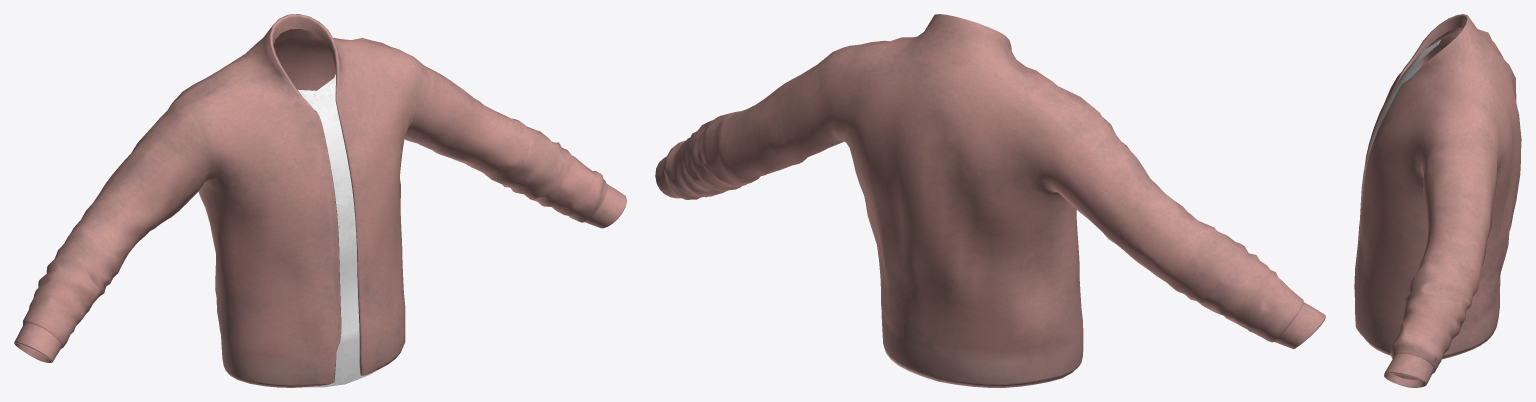
File: pink_jacket_001.glb
3 views of the same model, side by side, from view 1: azimuth 30°, elevation 25°; view 2: azimuth 150°, elevation 25°; view 3: azimuth 270°, elevation 25° (orthographic). The views are drawn at different scales.
Visible parts, largest first — view 1: Jacket_low, Shirt_low; view 2: Jacket_low; view 3: Jacket_low, Shirt_low.
Part boxes in pixels (<box>): Jacket_low: <box>14,14,626,387</box>; Shirt_low: <box>298,74,377,387</box>; Jacket_low: <box>655,14,1325,387</box>; Jacket_low: <box>1354,14,1521,387</box>; Shirt_low: <box>1362,40,1440,194</box>.
Size of the model in its own units: 1.65 by 0.8556 by 0.4191.
1 material, 1 textured.
